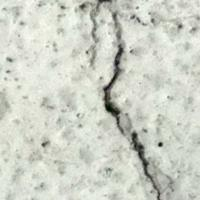crack: (87, 4, 179, 199)
